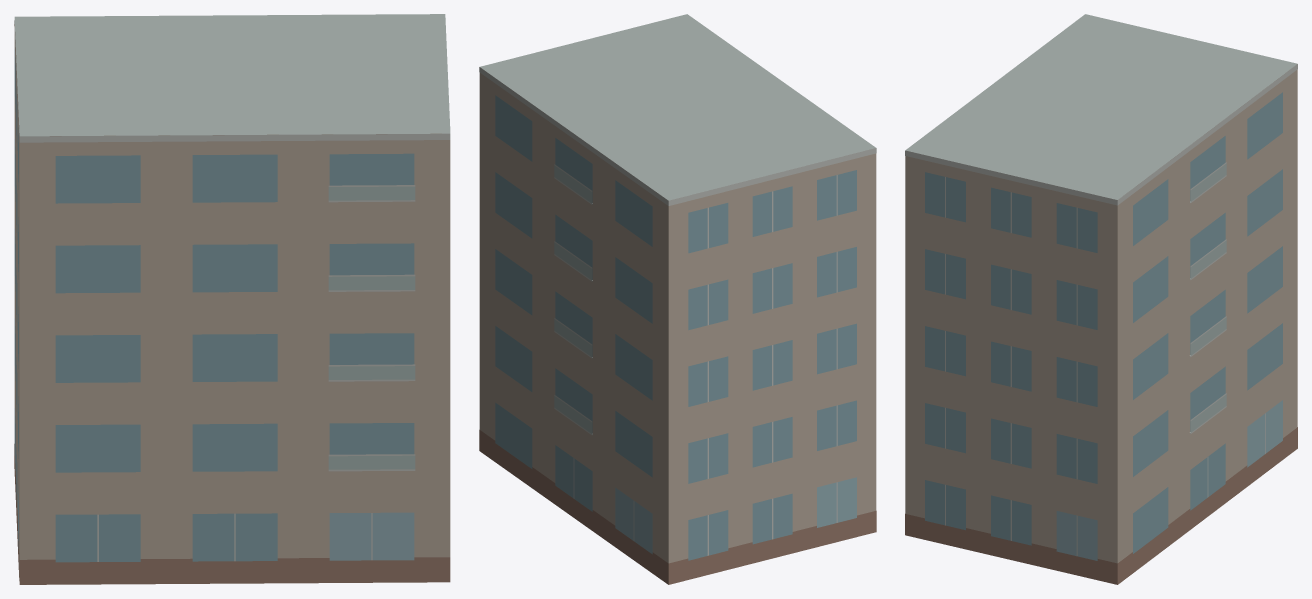
The model's file is survey-upis-32658266.glb.
3 renders of one model, left to right at view 1: azimuth 30°, elevation 25°; view 2: azimuth 150°, elevation 25°; view 3: azimuth 270°, elevation 25°, orthographic. The views are drawn at different scales.
Visible parts, largest first — view 1: survey-upis-32658266.tmp; view 2: survey-upis-32658266.tmp; view 3: survey-upis-32658266.tmp.
Part boxes in pixels (x1=…): survey-upis-32658266.tmp: x1=14, y1=14, x2=450, y2=584; survey-upis-32658266.tmp: x1=479, y1=14, x2=876, y2=584; survey-upis-32658266.tmp: x1=905, y1=14, x2=1297, y2=584.
Bounding box in the file's own units: 17.95 × 17.3 × 16.01.
